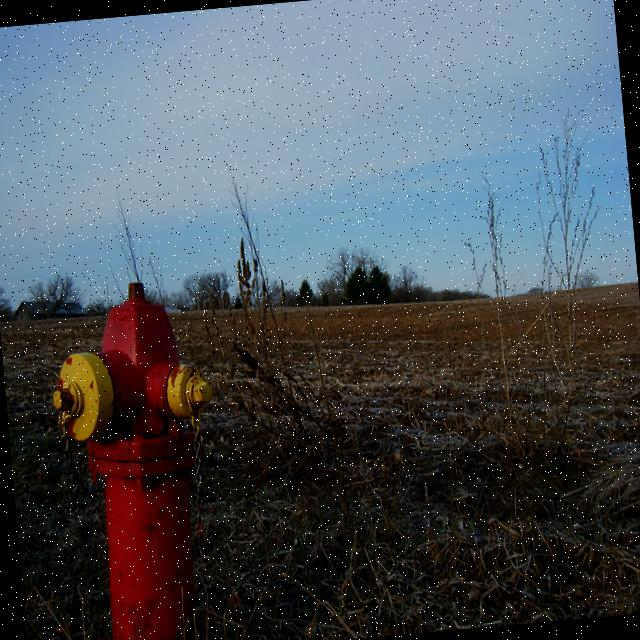fire_hydrant: (41, 274, 234, 640)
